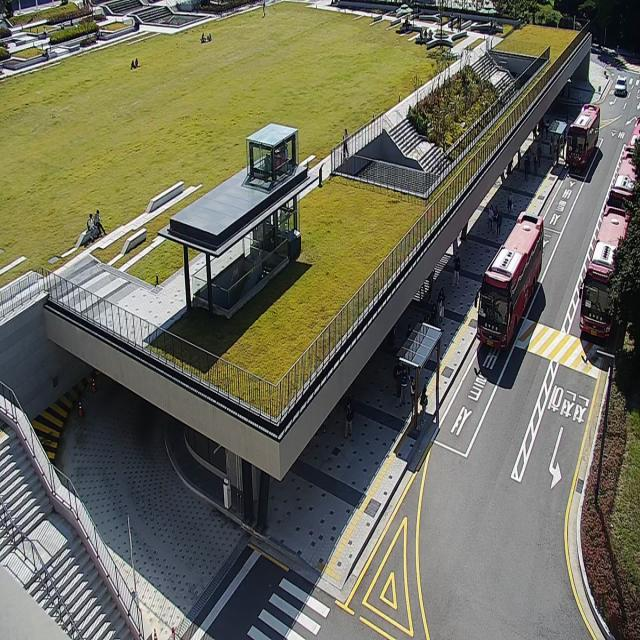queue: (415, 286, 445, 438)
